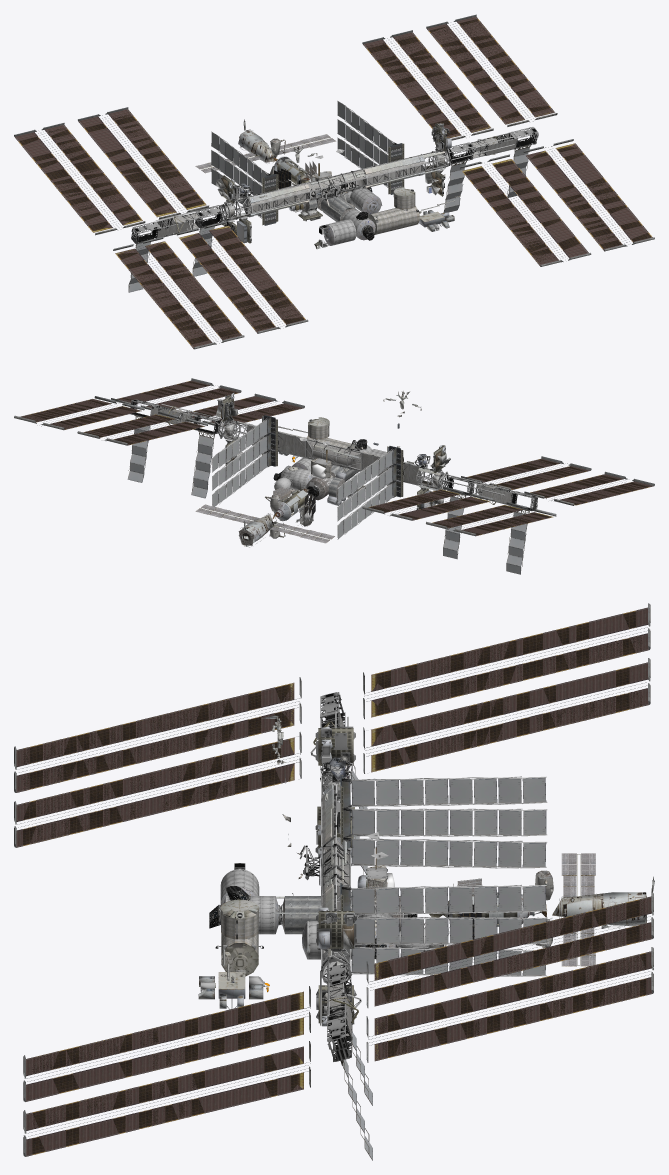
Rendered from iss.glb.
3 views of the same model, one above another, from view 1: azimuth 30°, elevation 25°; view 2: azimuth 150°, elevation 25°; view 3: azimuth 270°, elevation 25° (orthographic). The views are drawn at different scales.
Bounding box in the file's own units: 112 × 30.35 × 76.16.
Materials: 42 (24 with a texture image).
